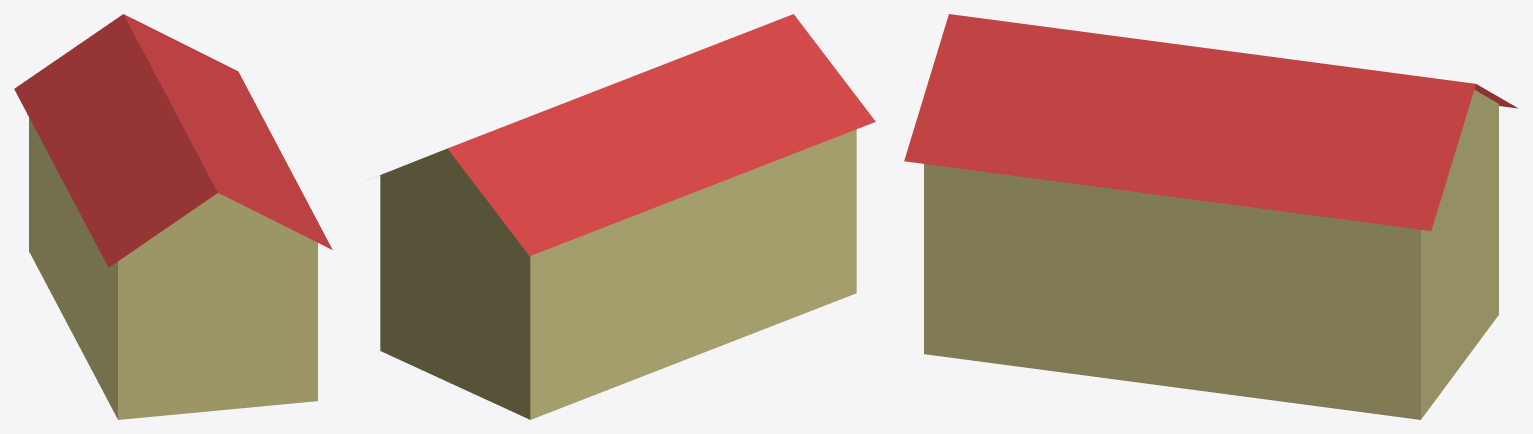
3 views of the same model, side by side, from view 1: azimuth 30°, elevation 25°; view 2: azimuth 150°, elevation 25°; view 3: azimuth 270°, elevation 25° (orthographic). The views are drawn at different scales.
Bounding box in the file's own units: 13.93 × 19.27 × 9.82.
